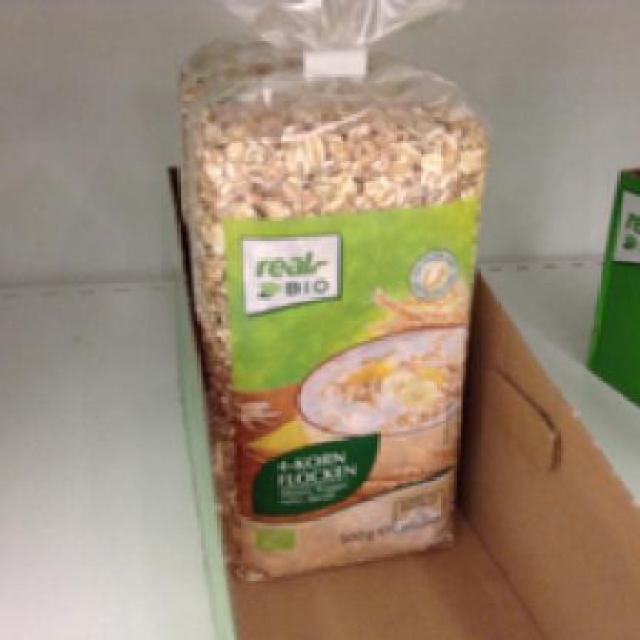Cereal: (177, 62, 494, 575)
